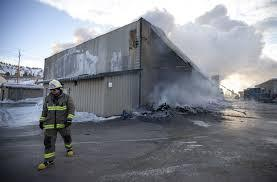smoke: (141, 10, 270, 79), (153, 75, 226, 111)
